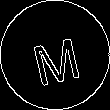M_N: (27, 25, 83, 85)
